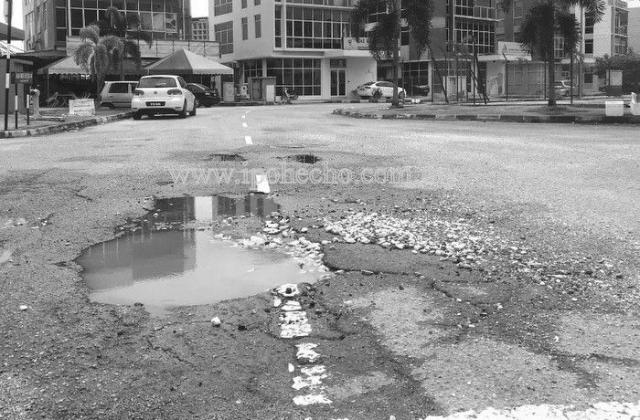Pothole: (72, 226, 338, 312), (136, 193, 284, 225), (274, 152, 324, 166), (204, 152, 246, 164)
